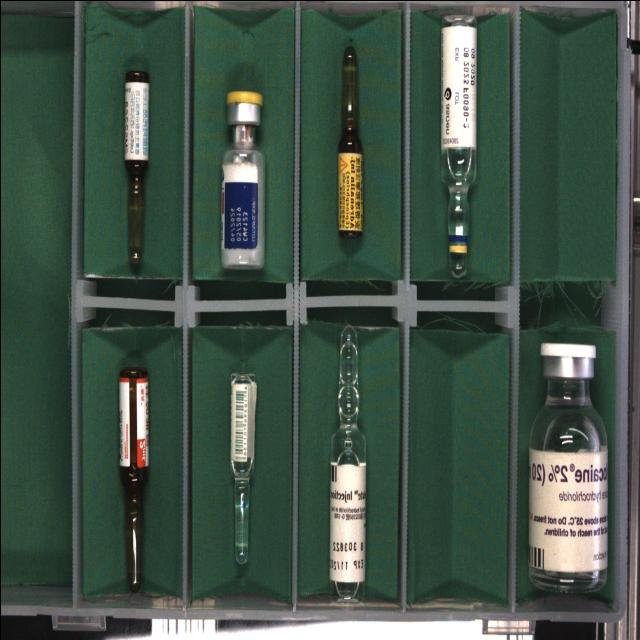Vials: (527, 342, 607, 591), (221, 90, 264, 268), (540, 342, 595, 379)
